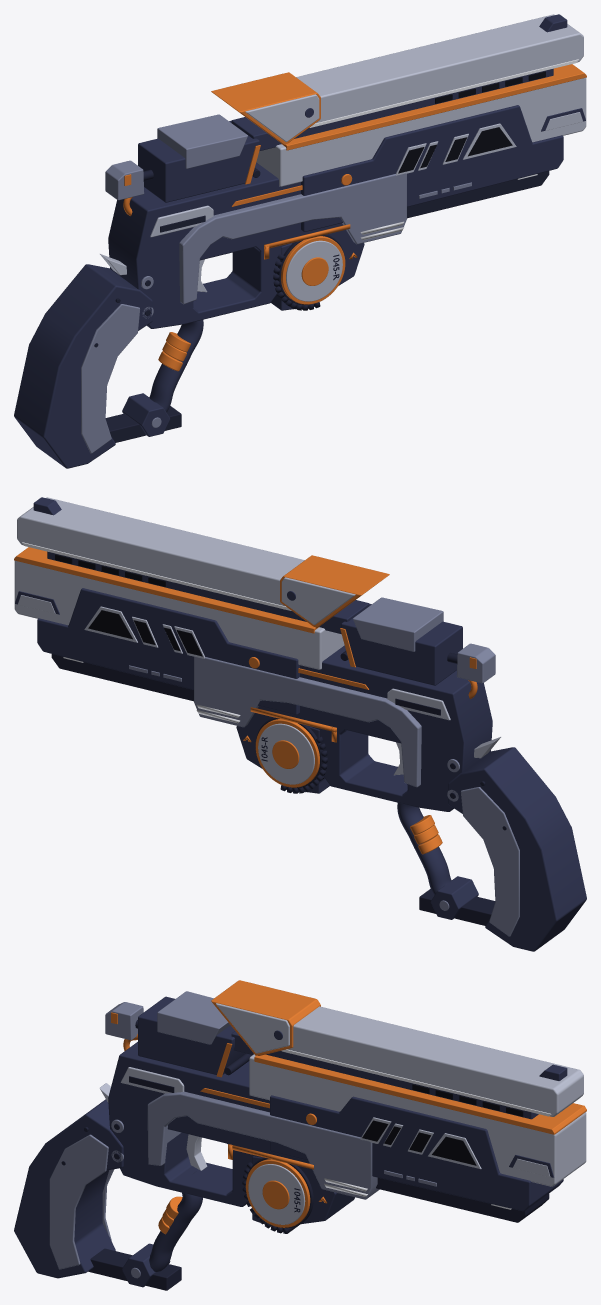
File: stylized_pistol.glb
3 renders of one model, top to bottom at view 1: azimuth 30°, elevation 25°; view 2: azimuth 150°, elevation 25°; view 3: azimuth 330°, elevation 25°, orthographic.
Visible parts, largest first — view 1: Frame, TopBar, GripBack, BarrelHousing, GreyCover, UpperBody, ReceiverBlock, GripPanel_L, OrangeStripe, ReceiverPlate, AngledPlateOrange, Core (+13 smaller); view 2: Frame, TopBar, GripBack, BarrelHousing, GreyCover, UpperBody, ReceiverBlock, GripPanel_R, OrangeStripe, ReceiverPlate, AngledPlateOrange, Core (+13 smaller); view 3: TopBar, Frame, BarrelHousing, UpperBody, GreyCover, GripBack, GripPanel_L, OrangeStripe, ReceiverBlock, AngledPlateOrange, ReceiverPlate, DialDisk (+16 smaller).
Part boxes in pixels (x1=…): Frame: x1=108, y1=162, x2=342, y2=328; TopBar: x1=296, y1=14, x2=583, y2=123; GripBack: x1=14, y1=264, x2=152, y2=468; BarrelHousing: x1=301, y1=105, x2=563, y2=231; GreyCover: x1=179, y1=173, x2=406, y2=304; UpperBody: x1=256, y1=77, x2=586, y2=186; ReceiverBlock: x1=138, y1=120, x2=259, y2=202; GripPanel_L: x1=81, y1=304, x2=139, y2=453; OrangeStripe: x1=282, y1=64, x2=586, y2=150; ReceiverPlate: x1=157, y1=114, x2=247, y2=168; AngledPlateOrange: x1=211, y1=72, x2=320, y2=145; Core: x1=231, y1=68, x2=553, y2=150; Frame: x1=258, y1=645, x2=492, y2=811; TopBar: x1=17, y1=497, x2=304, y2=606; GripBack: x1=448, y1=747, x2=586, y2=951; BarrelHousing: x1=37, y1=588, x2=299, y2=714; GreyCover: x1=194, y1=656, x2=421, y2=787; UpperBody: x1=14, y1=560, x2=344, y2=669; ReceiverBlock: x1=341, y1=603, x2=462, y2=685; GripPanel_R: x1=461, y1=787, x2=519, y2=936; OrangeStripe: x1=14, y1=547, x2=318, y2=633; ReceiverPlate: x1=353, y1=597, x2=443, y2=651; AngledPlateOrange: x1=280, y1=555, x2=389, y2=628; Core: x1=47, y1=551, x2=369, y2=633; TopBar: x1=281, y1=1006, x2=583, y2=1116; Frame: x1=108, y1=1042, x2=309, y2=1206; BarrelHousing: x1=270, y1=1095, x2=563, y2=1211; UpperBody: x1=249, y1=1054, x2=586, y2=1186; GreyCover: x1=147, y1=1091, x2=379, y2=1199; GripBack: x1=14, y1=1099, x2=123, y2=1278; GripPanel_L: x1=49, y1=1134, x2=108, y2=1269; OrangeStripe: x1=254, y1=1054, x2=586, y2=1134; ReceiverBlock: x1=138, y1=996, x2=244, y2=1074; AngledPlateOrange: x1=211, y1=980, x2=320, y2=1055; ReceiverPlate: x1=157, y1=991, x2=230, y2=1044; DialDisk: x1=248, y1=1164, x2=305, y2=1224.
Size of the model in its own units: 3.36 by 1.88 by 0.43.
